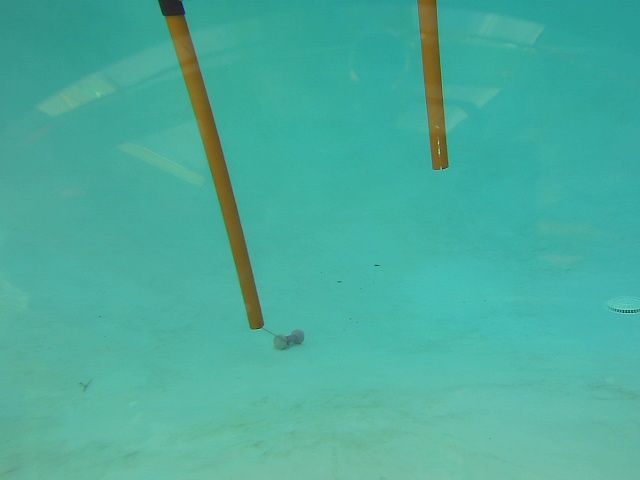Gate: (159, 2, 268, 331), (412, 1, 453, 173)
